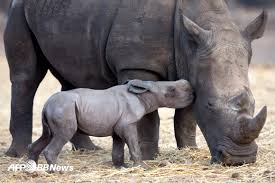Rhinoceros: (4, 2, 271, 168)
